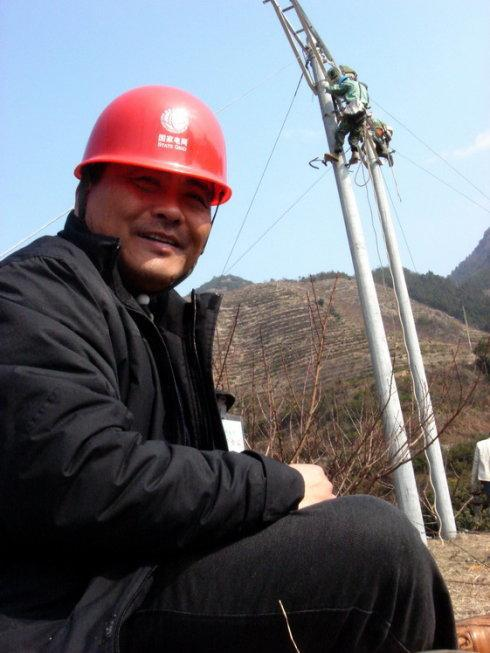helmet: (62, 60, 261, 289)
